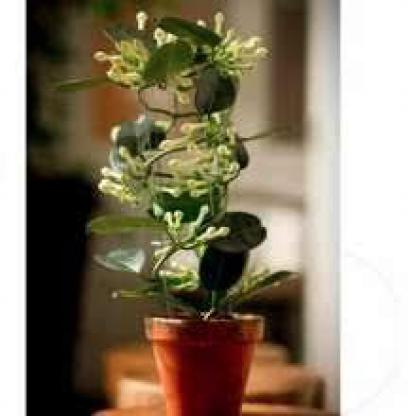Melati: (77, 120, 256, 192), (135, 200, 245, 291), (84, 24, 154, 90), (203, 12, 260, 75)
